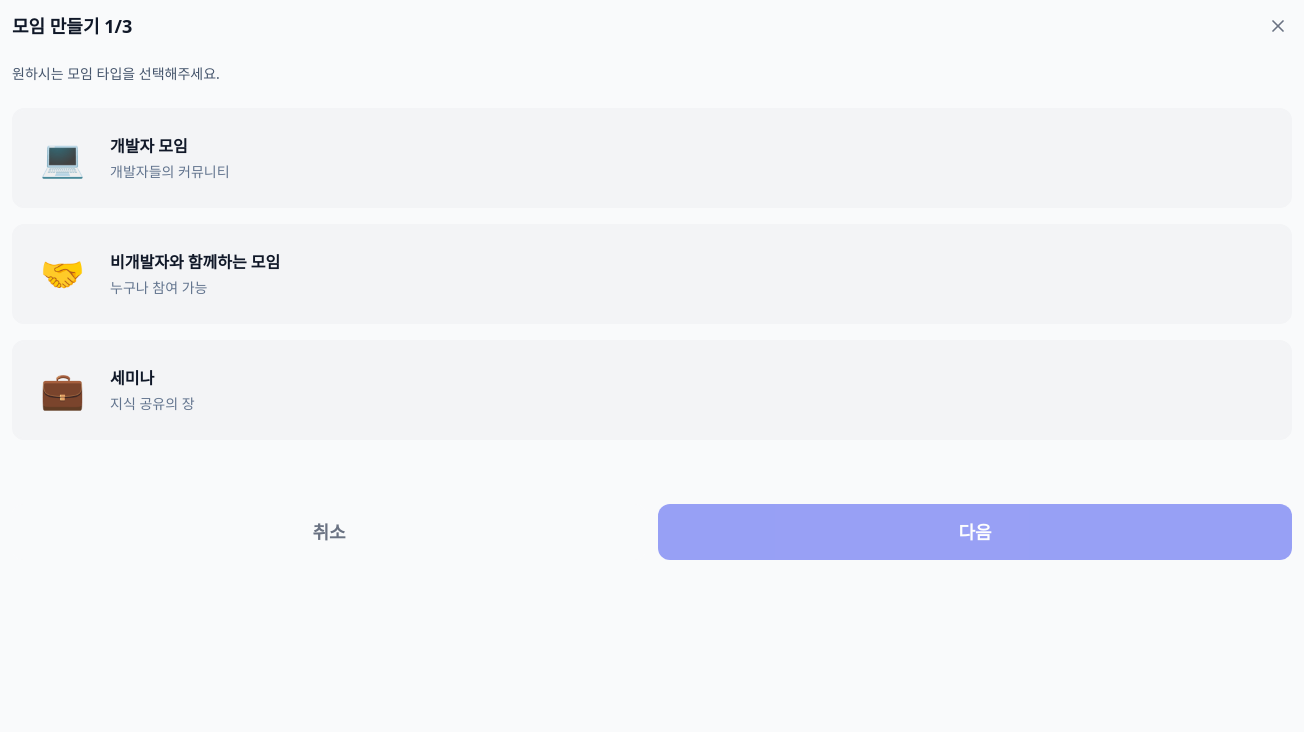
Test: CreateMeetingWizard 컴포넌트 › Step 1 - 모임 타입 선택 › 모임 타입 선택 후 다음 버튼 활성화
Step 1. Click the button "💻 개발자 모임 개발자들의 커뮤니티" → (62, 158), box [12,108,1292,208]
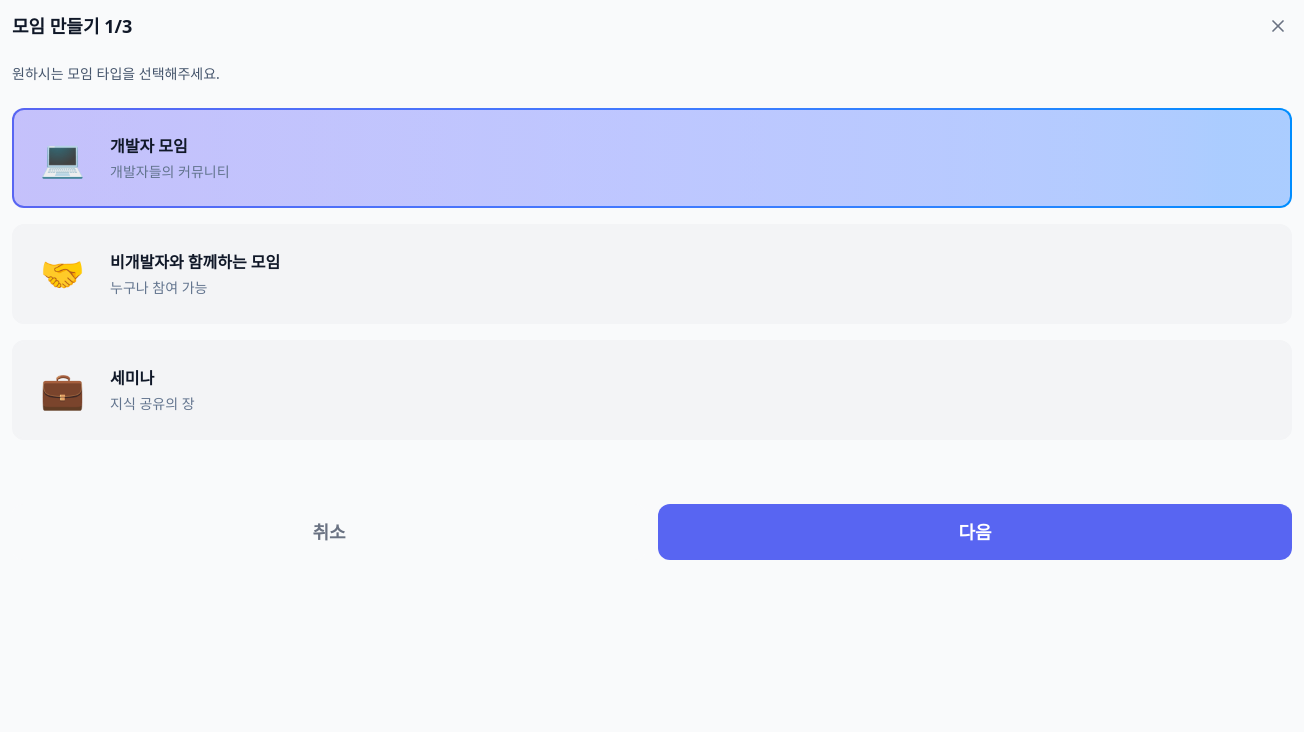
expect the button "다음" is enabled: met, box [658,504,1292,560]
